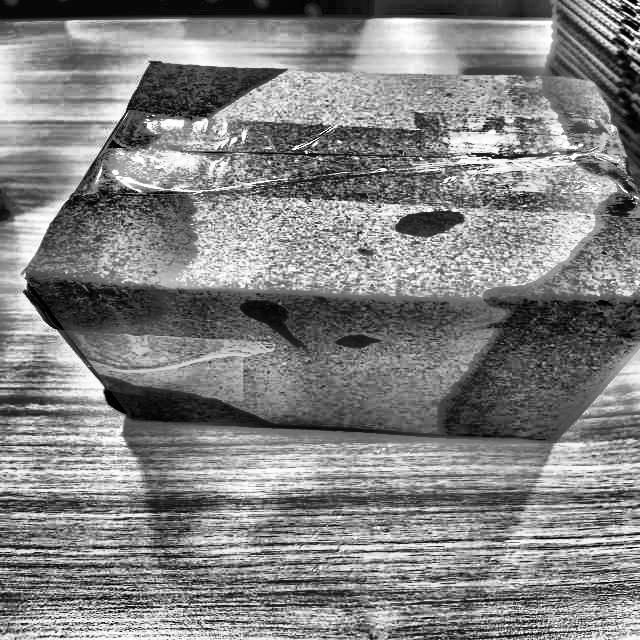box: (14, 54, 639, 445)
wet: (476, 155, 639, 441), (12, 172, 227, 324), (102, 35, 274, 157), (106, 372, 278, 438), (541, 70, 620, 149), (397, 202, 468, 241)
